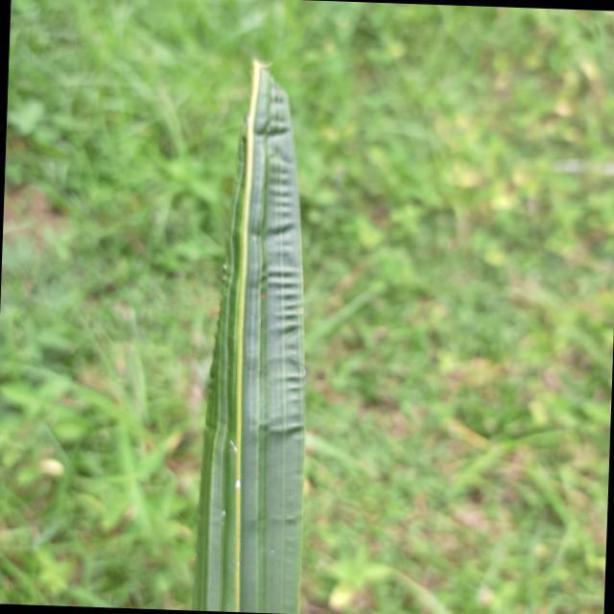Boron: (192, 53, 310, 614)
